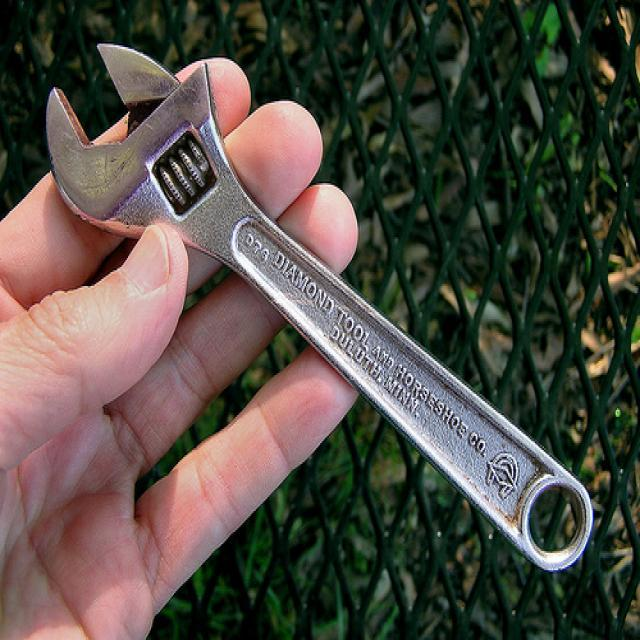wrench: (44, 38, 596, 572)
